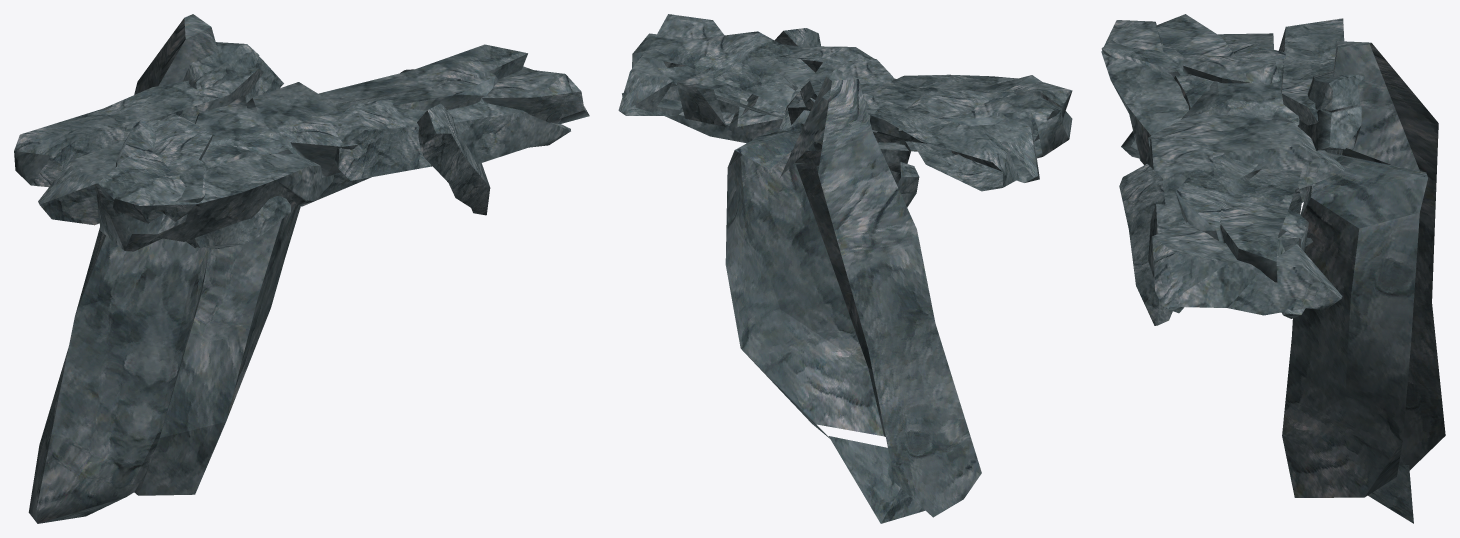
File: FloatPiece1.fbx
3 renders of one model, left to right at view 1: azimuth 30°, elevation 25°; view 2: azimuth 150°, elevation 25°; view 3: azimuth 270°, elevation 25°, orthographic. The views are drawn at different scales.
Visible parts, largest first — view 1: PlateauRockPiece1; view 2: PlateauRockPiece1; view 3: PlateauRockPiece1.
Boxes of the visible parts, <box> form: PlateauRockPiece1: <box>14,14,589,523</box>; PlateauRockPiece1: <box>618,14,1072,523</box>; PlateauRockPiece1: <box>1101,14,1445,523</box>.
Bounding box in the file's own units: 11.18 × 10.57 × 6.3.
Materials: 1 (1 with a texture image).
